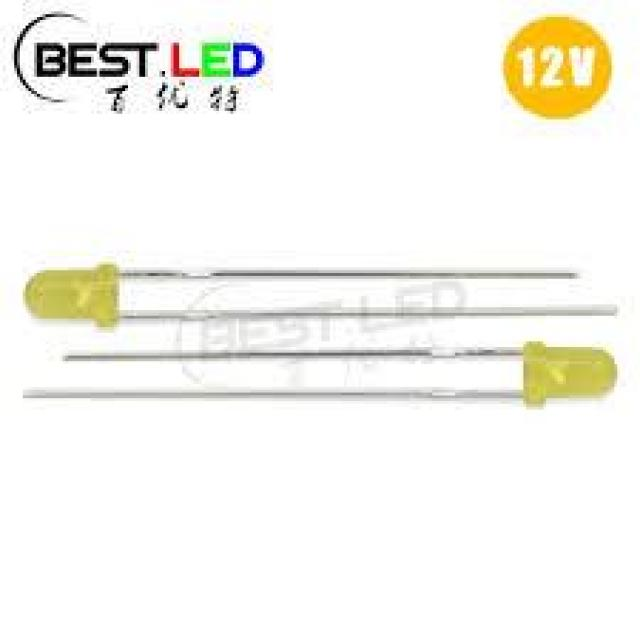Led: (24, 341, 612, 407), (24, 262, 618, 327)
